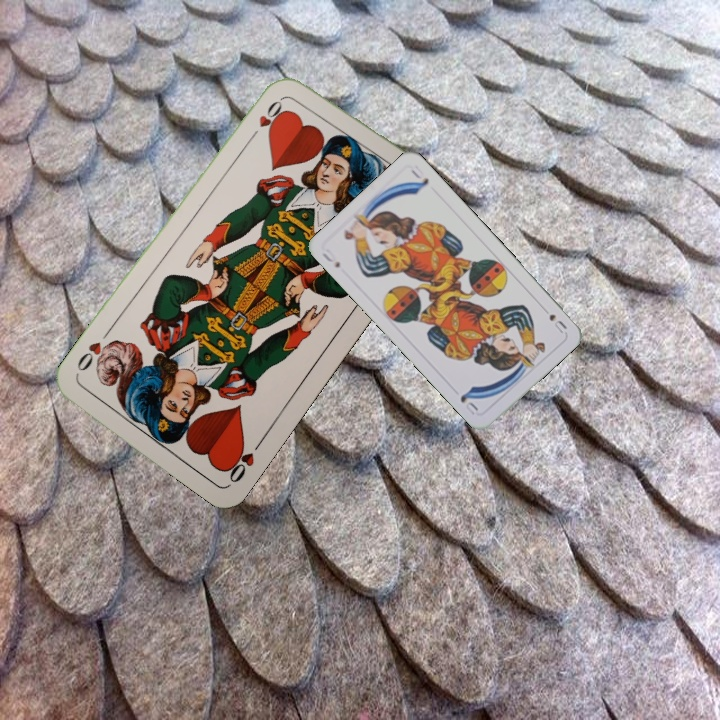HO: (221, 435, 266, 486), (244, 93, 286, 144)
SU: (318, 245, 343, 271), (545, 310, 569, 336)
